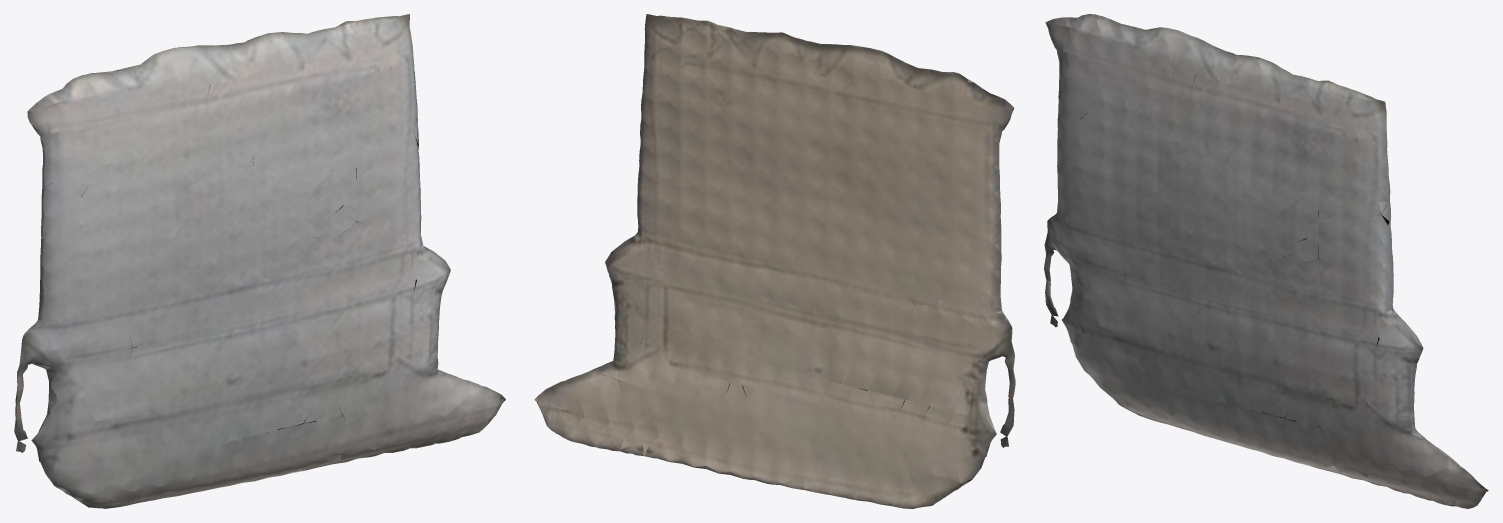
The picture shows the model from 3 angles, left to right: view 1: azimuth 30°, elevation 25°; view 2: azimuth 150°, elevation 25°; view 3: azimuth 330°, elevation 25°; orthographic projection. The views are drawn at different scales.
Parts seen in each view (by area): view 1: world; view 2: world; view 3: world.
Boxes of the visible parts, <box> form: world: <box>14,14,505,508</box>; world: <box>534,14,1015,508</box>; world: <box>1044,14,1488,508</box>.
Bounding box in the file's own units: 0.8309 × 0.7585 × 0.079.
Materials: 1 (1 with a texture image).
